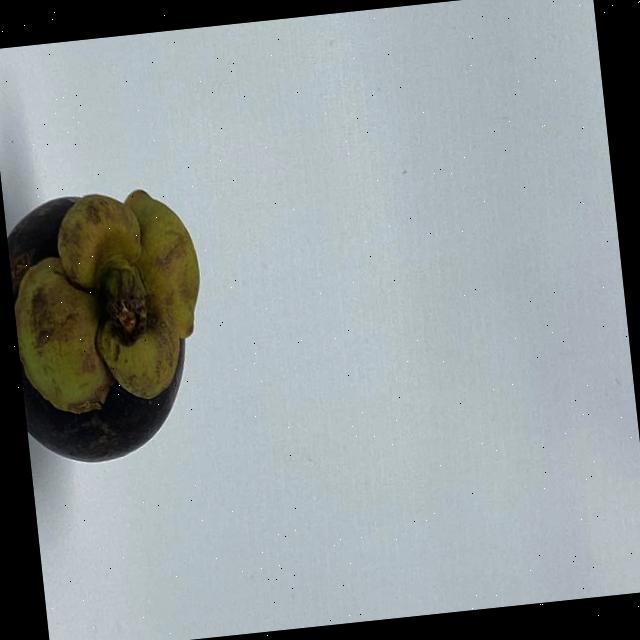mangosteen: (1, 170, 231, 480)
